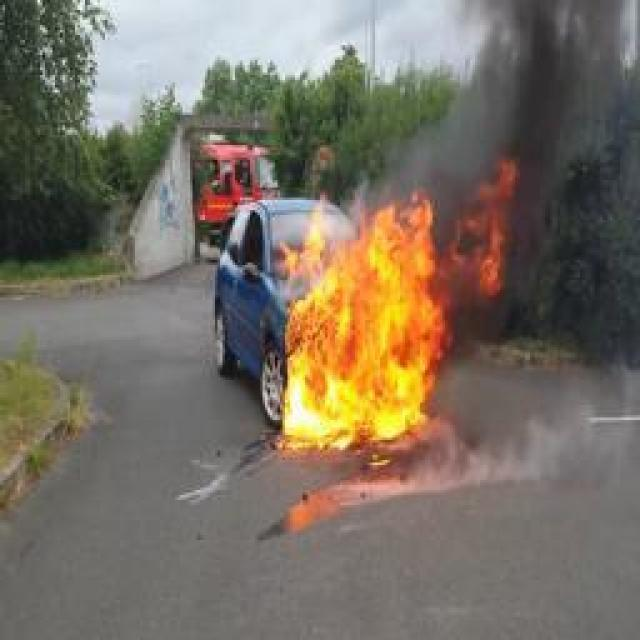Fire: (275, 157, 513, 445)
